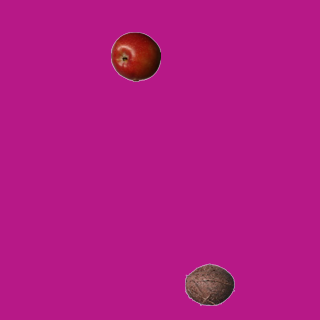Apple Braeburn: (110, 31, 160, 81)
Cocos: (184, 259, 234, 309)
